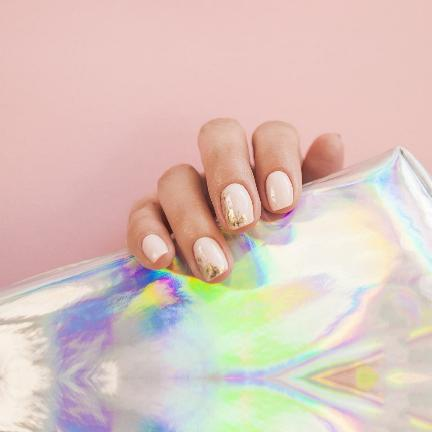Nail: (221, 183, 254, 230), (194, 237, 228, 281), (266, 170, 294, 211), (142, 234, 169, 263)
